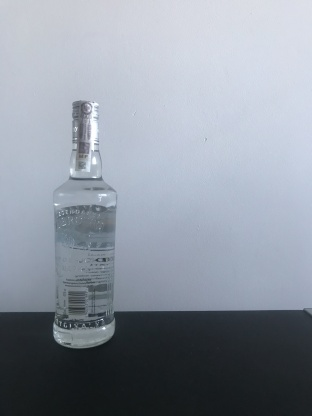nakretka: (69, 97, 102, 148)
